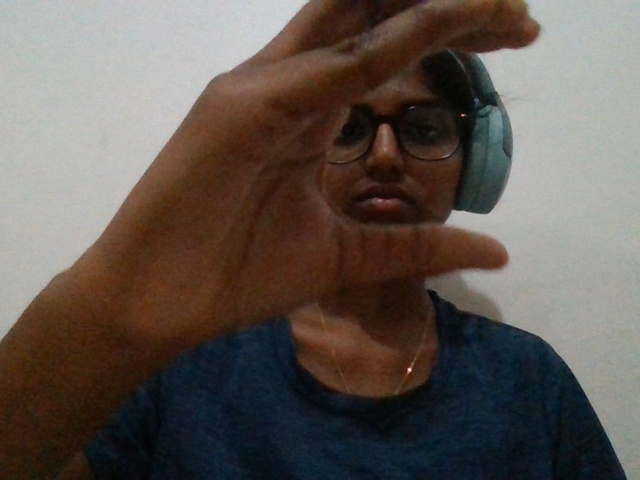C: (70, 3, 558, 395)
